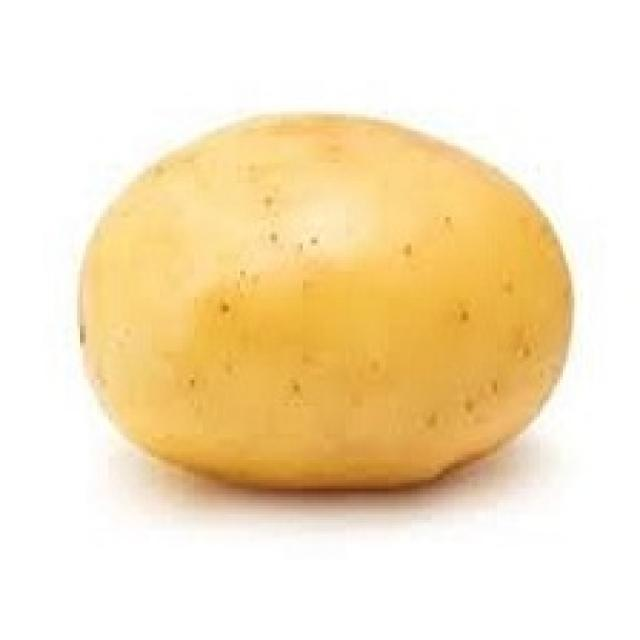healthy: (65, 93, 582, 508)
